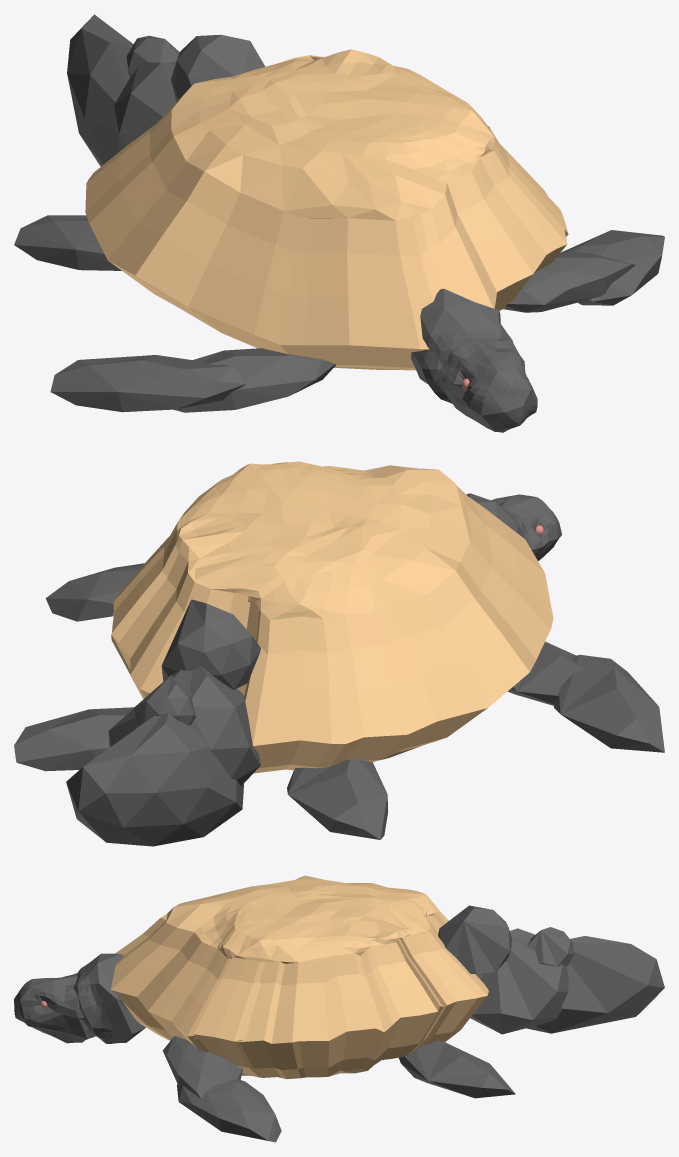
Rendered from IslaTortugaViviente.fbx.
3 views of the same model, one above another, from view 1: azimuth 30°, elevation 25°; view 2: azimuth 150°, elevation 25°; view 3: azimuth 270°, elevation 25° (orthographic). The views are drawn at different scales.
Visible parts, largest first — view 1: Sphere.003; view 2: Sphere.003; view 3: Sphere.003.
Part boxes in pixels (x1,y1,x2,y2): Sphere.003: (14, 14, 664, 432); Sphere.003: (14, 461, 664, 846); Sphere.003: (14, 875, 664, 1142).
Bounding box in the file's own units: 58.4 × 17.99 × 73.34.
